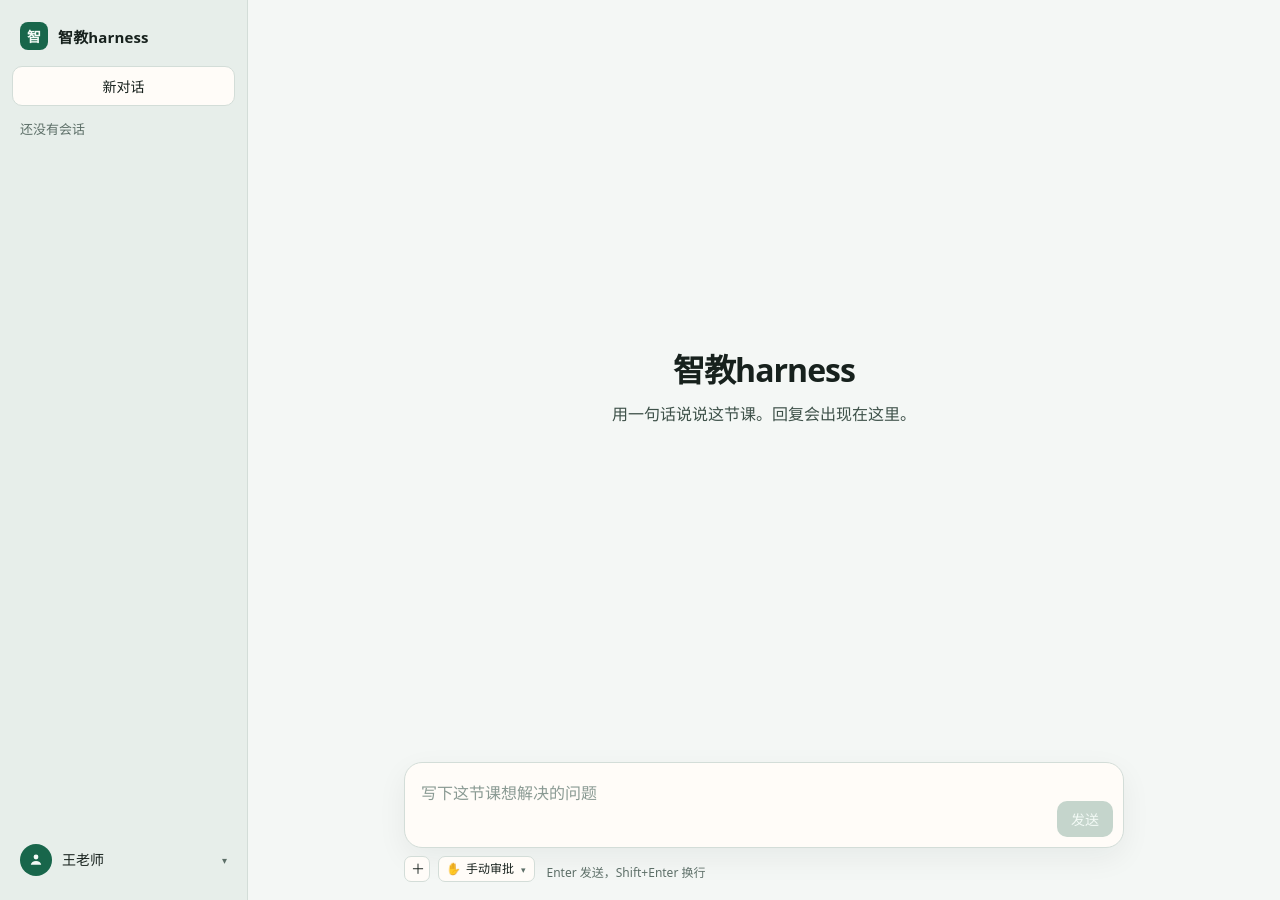
工作台 › 加号菜单：权限项与左下角审批控制器同步切换
Expected: the button "发送" is shown, [1057,801,1113,837]
Expected: the button with aria-label "审批模式" shows "手动审批", [438,856,534,882]
// 打开加号菜单，点权限项切换
Click the button named "更多操作" at (417, 869), box [404,856,430,882]
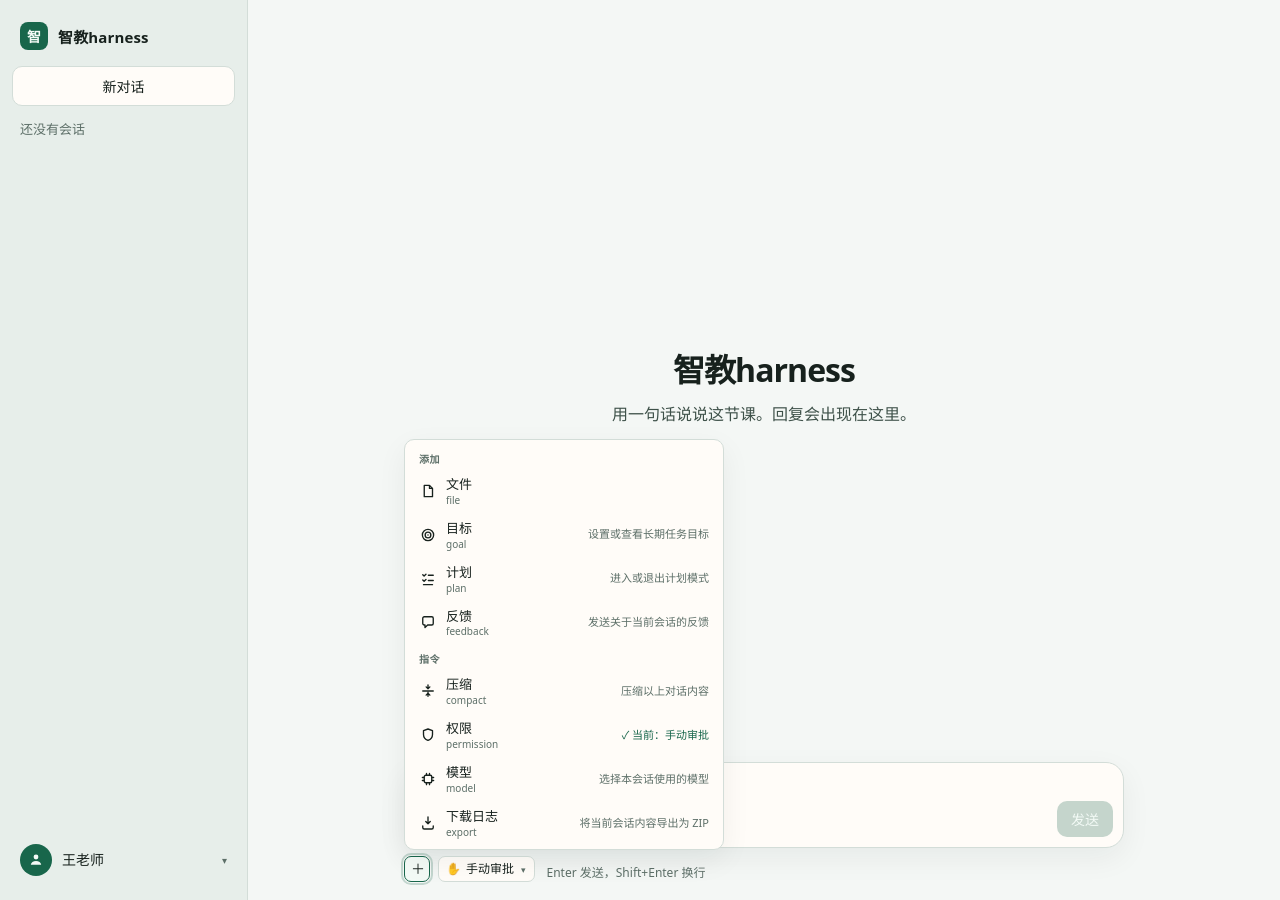
Expected: the menu item "权限 permission ✓ 当前：手动审批" is shown
Click the menu item "权限 permission ✓ 当前：手动审批" at (472, 744), box [409,713,719,757]
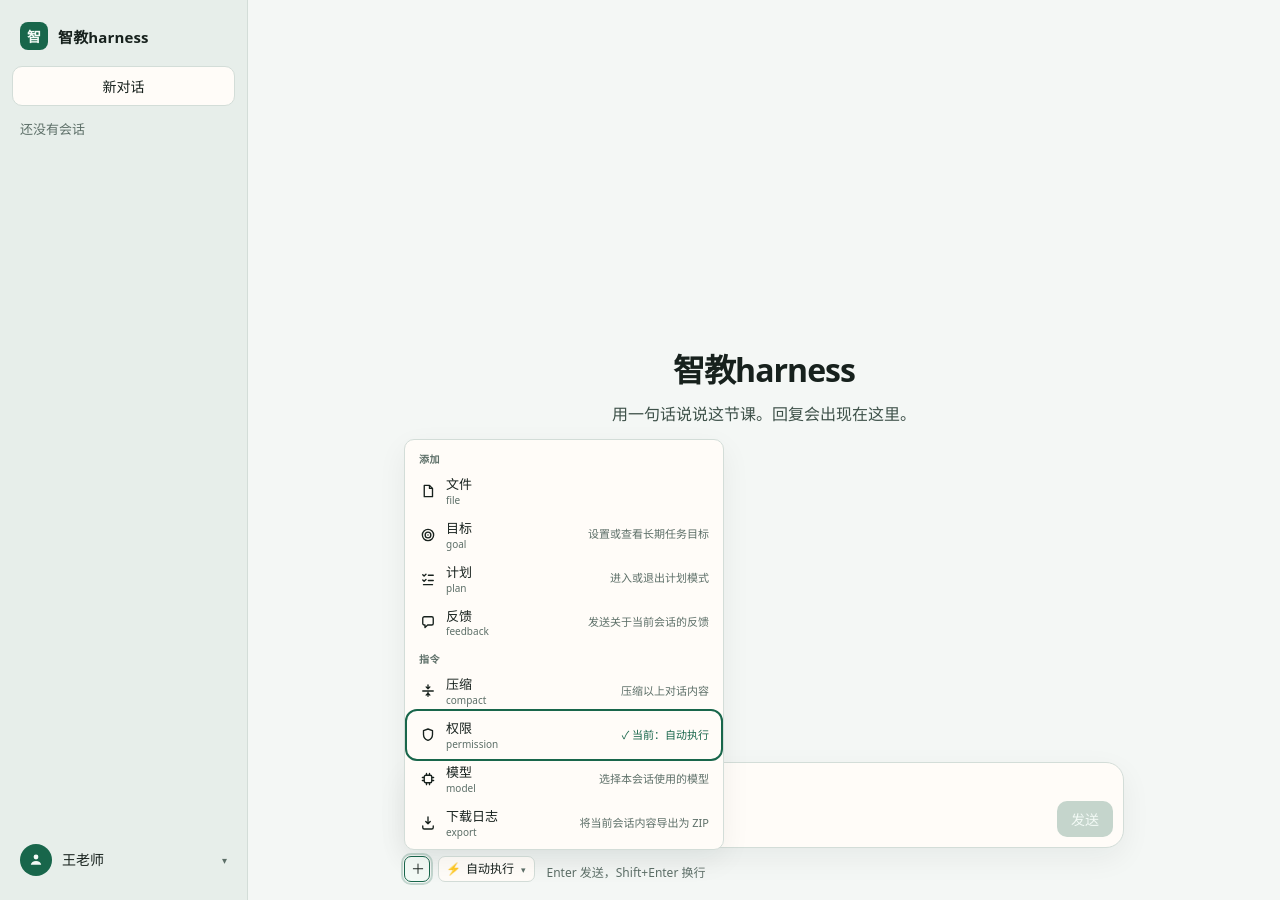
Expected: the button with aria-label "审批模式" shows "自动执行", [438,856,534,882]
Expected: the menu item "权限 permission ✓ 当前：自动执行" is shown, [409,713,719,757]
